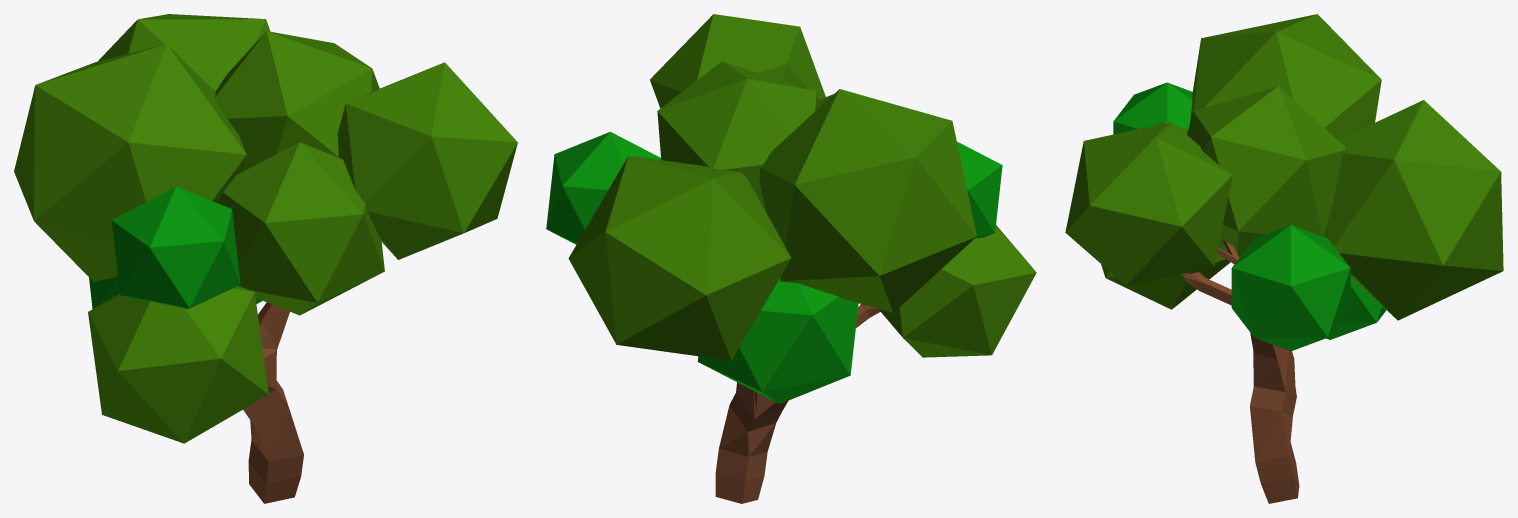
File: Tree1.4.fbx
The picture shows the model from 3 angles, left to right: view 1: azimuth 30°, elevation 25°; view 2: azimuth 150°, elevation 25°; view 3: azimuth 270°, elevation 25°; orthographic projection. The views are drawn at different scales.
Parts seen in each view (by area): view 1: Trunck Tree1.4; view 2: Trunck Tree1.4; view 3: Trunck Tree1.4.
Boxes of the visible parts, left/top/right/bottom form: Trunck Tree1.4: left=14, top=14, right=517, bottom=503; Trunck Tree1.4: left=546, top=14, right=1036, bottom=503; Trunck Tree1.4: left=1065, top=14, right=1503, bottom=503.
Bounding box in the file's own units: 1497 × 1528 × 1447.
